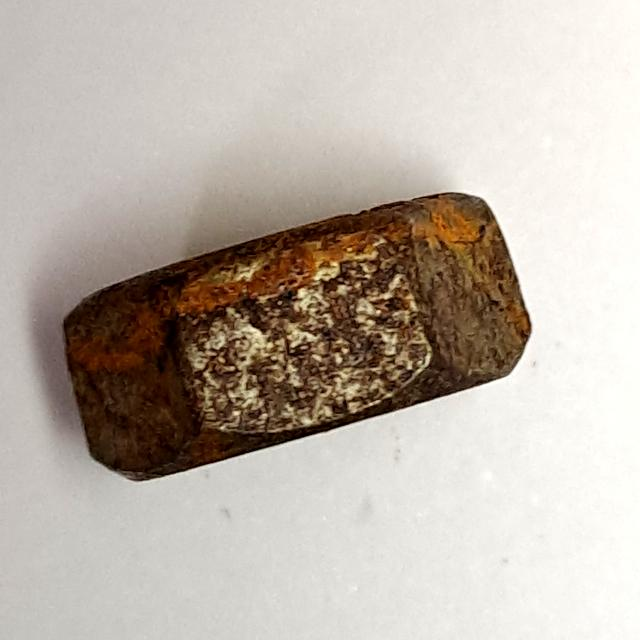Side_Rust: (47, 181, 557, 500)
